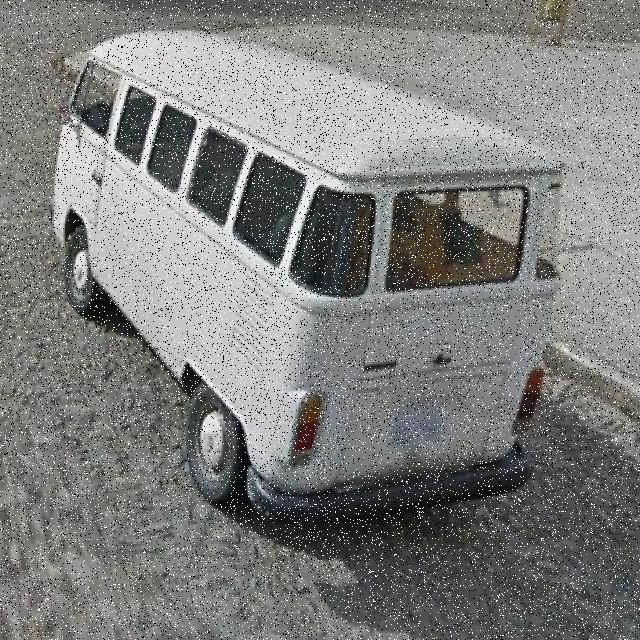cars: (61, 50, 574, 530)
